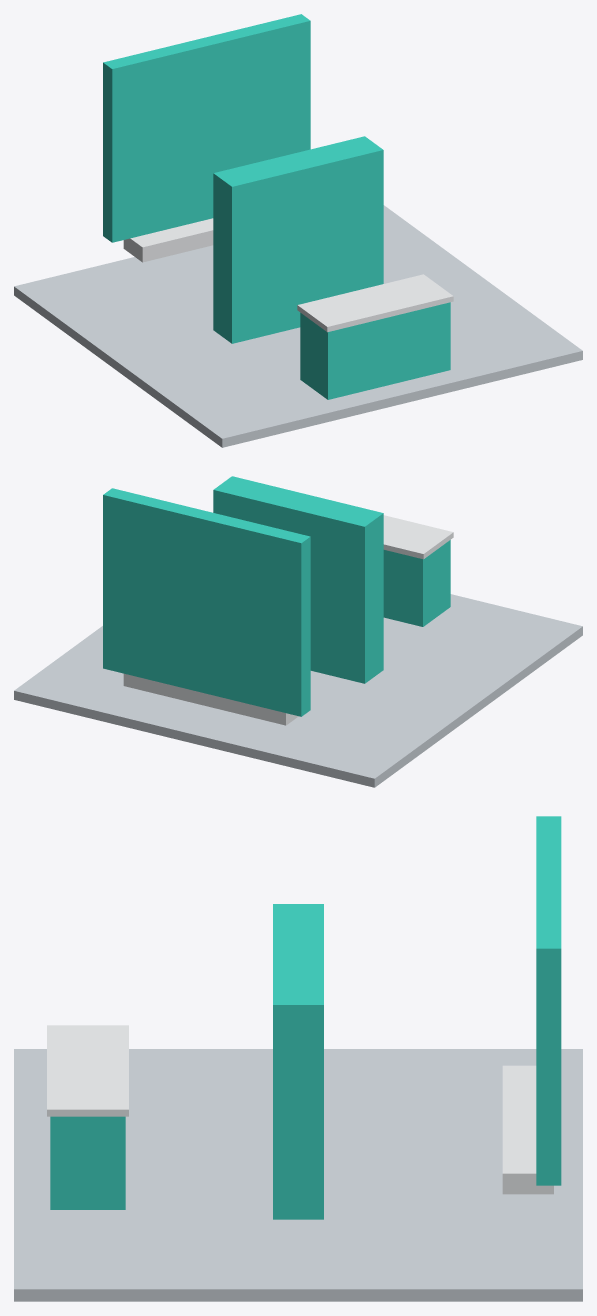
The picture shows the model from 3 angles, top to bottom: view 1: azimuth 30°, elevation 25°; view 2: azimuth 150°, elevation 25°; view 3: azimuth 270°, elevation 25°; orthographic projection. The views are drawn at different scales.
Visible parts, largest first — view 1: Exhibition Booth Concept; view 2: Exhibition Booth Concept; view 3: Exhibition Booth Concept.
Part boxes in pixels (left/top/right/bottom): Exhibition Booth Concept: left=14, top=14, right=582, bottom=447; Exhibition Booth Concept: left=14, top=476, right=582, bottom=787; Exhibition Booth Concept: left=14, top=816, right=582, bottom=1301.
Bounding box in the file's own units: 5 × 2.9 × 5.
